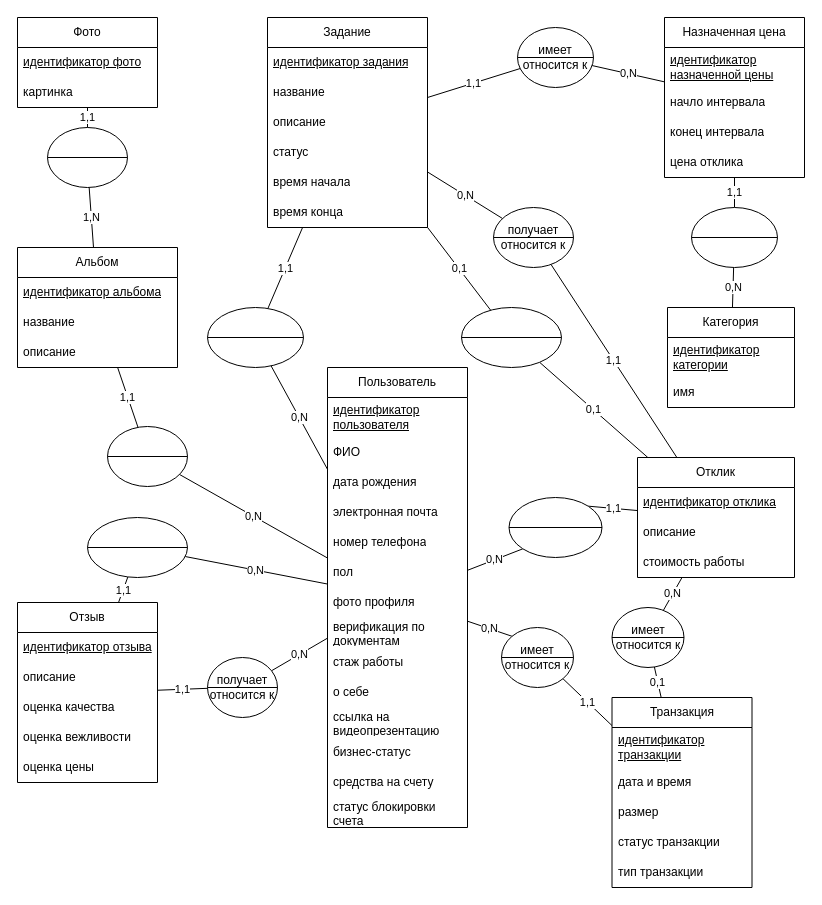
Some shapes in this 822 by 905 pixel diagram are drawn without their labels. Here are the shapes that lost their labels. From the top down, the centre of each, then its label:
At point 87,157: "в содержит".
At point 734,237: "относится к присвоена".
At point 255,337: "имеет автором публикует".
At point 511,337: "выделяет закрепляется за".
At point 147,456: "принадлежит имеет".
At point 137,547: "пишет имеет автором".
At point 555,527: "публикует имеет автором".
